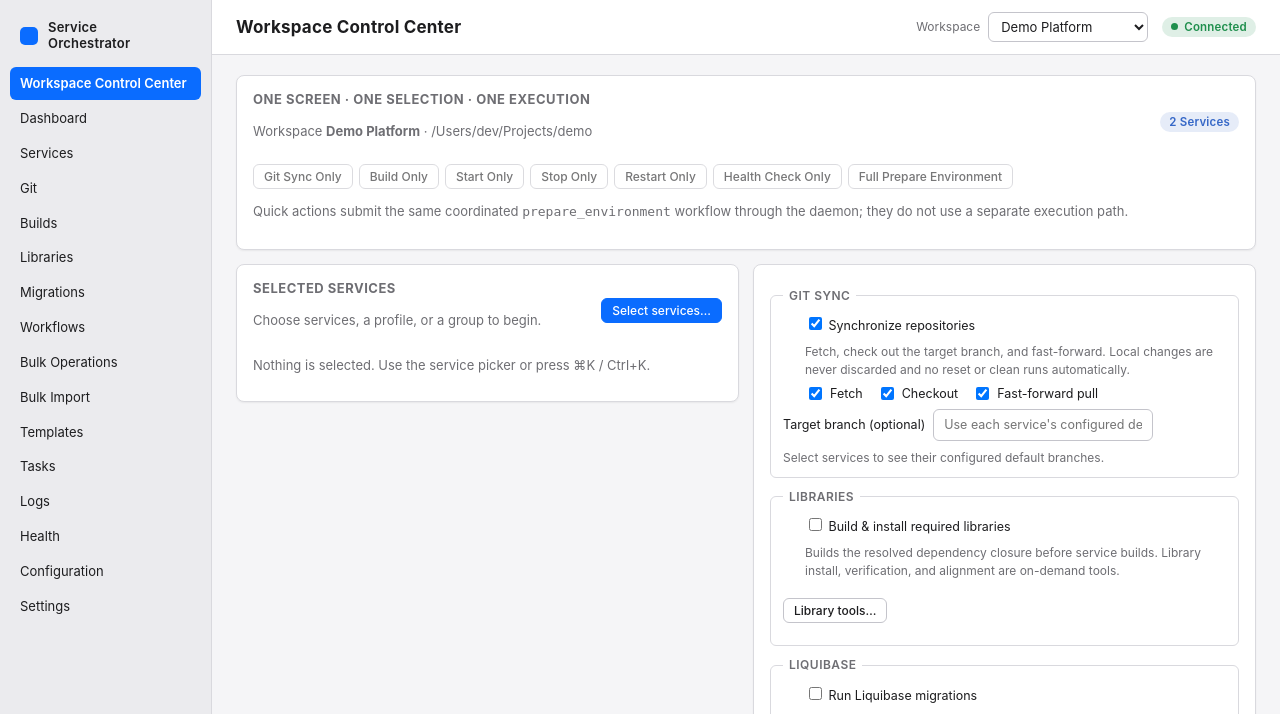
it: task filtering › filters by status
Click the button "Tasks".
click(106, 467)  # box [10,450,201,483]
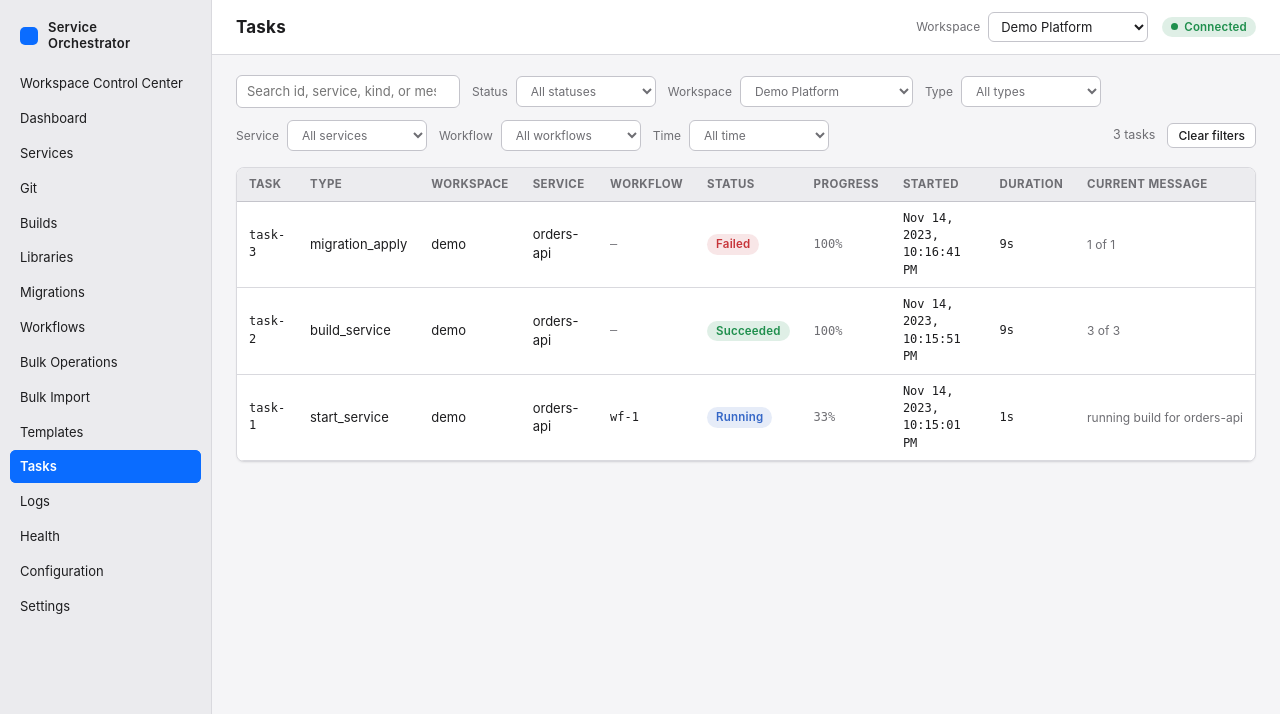
expect the table is shown: met, box [237,168,1255,461]
Select "failed" in the dropdown named "Filter by status" at (586, 91), box [516,76,656,107]
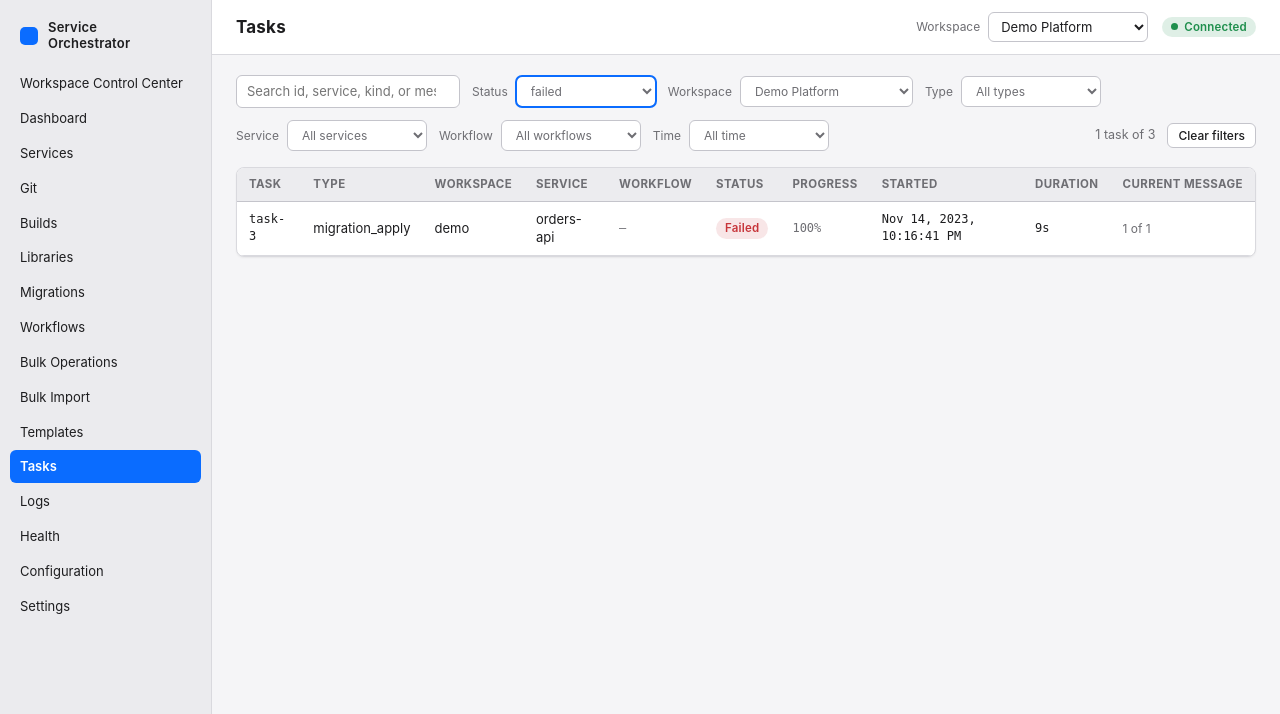
expect the text "migration_apply" is shown: met, box [301,202,423,256]
expect the text "start_service" is gone: met
expect the text "1 task of 3" is shown: met, box [1095,126,1155,144]
